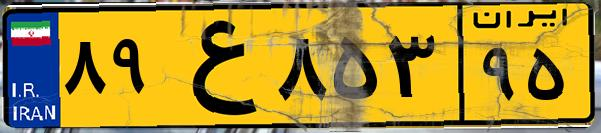3: (385, 28, 445, 110)
5: (330, 28, 385, 110), (525, 38, 570, 115)
8: (270, 28, 330, 110), (57, 26, 110, 100)
9: (475, 38, 525, 113), (110, 28, 158, 98)
ع: (158, 12, 270, 120)
